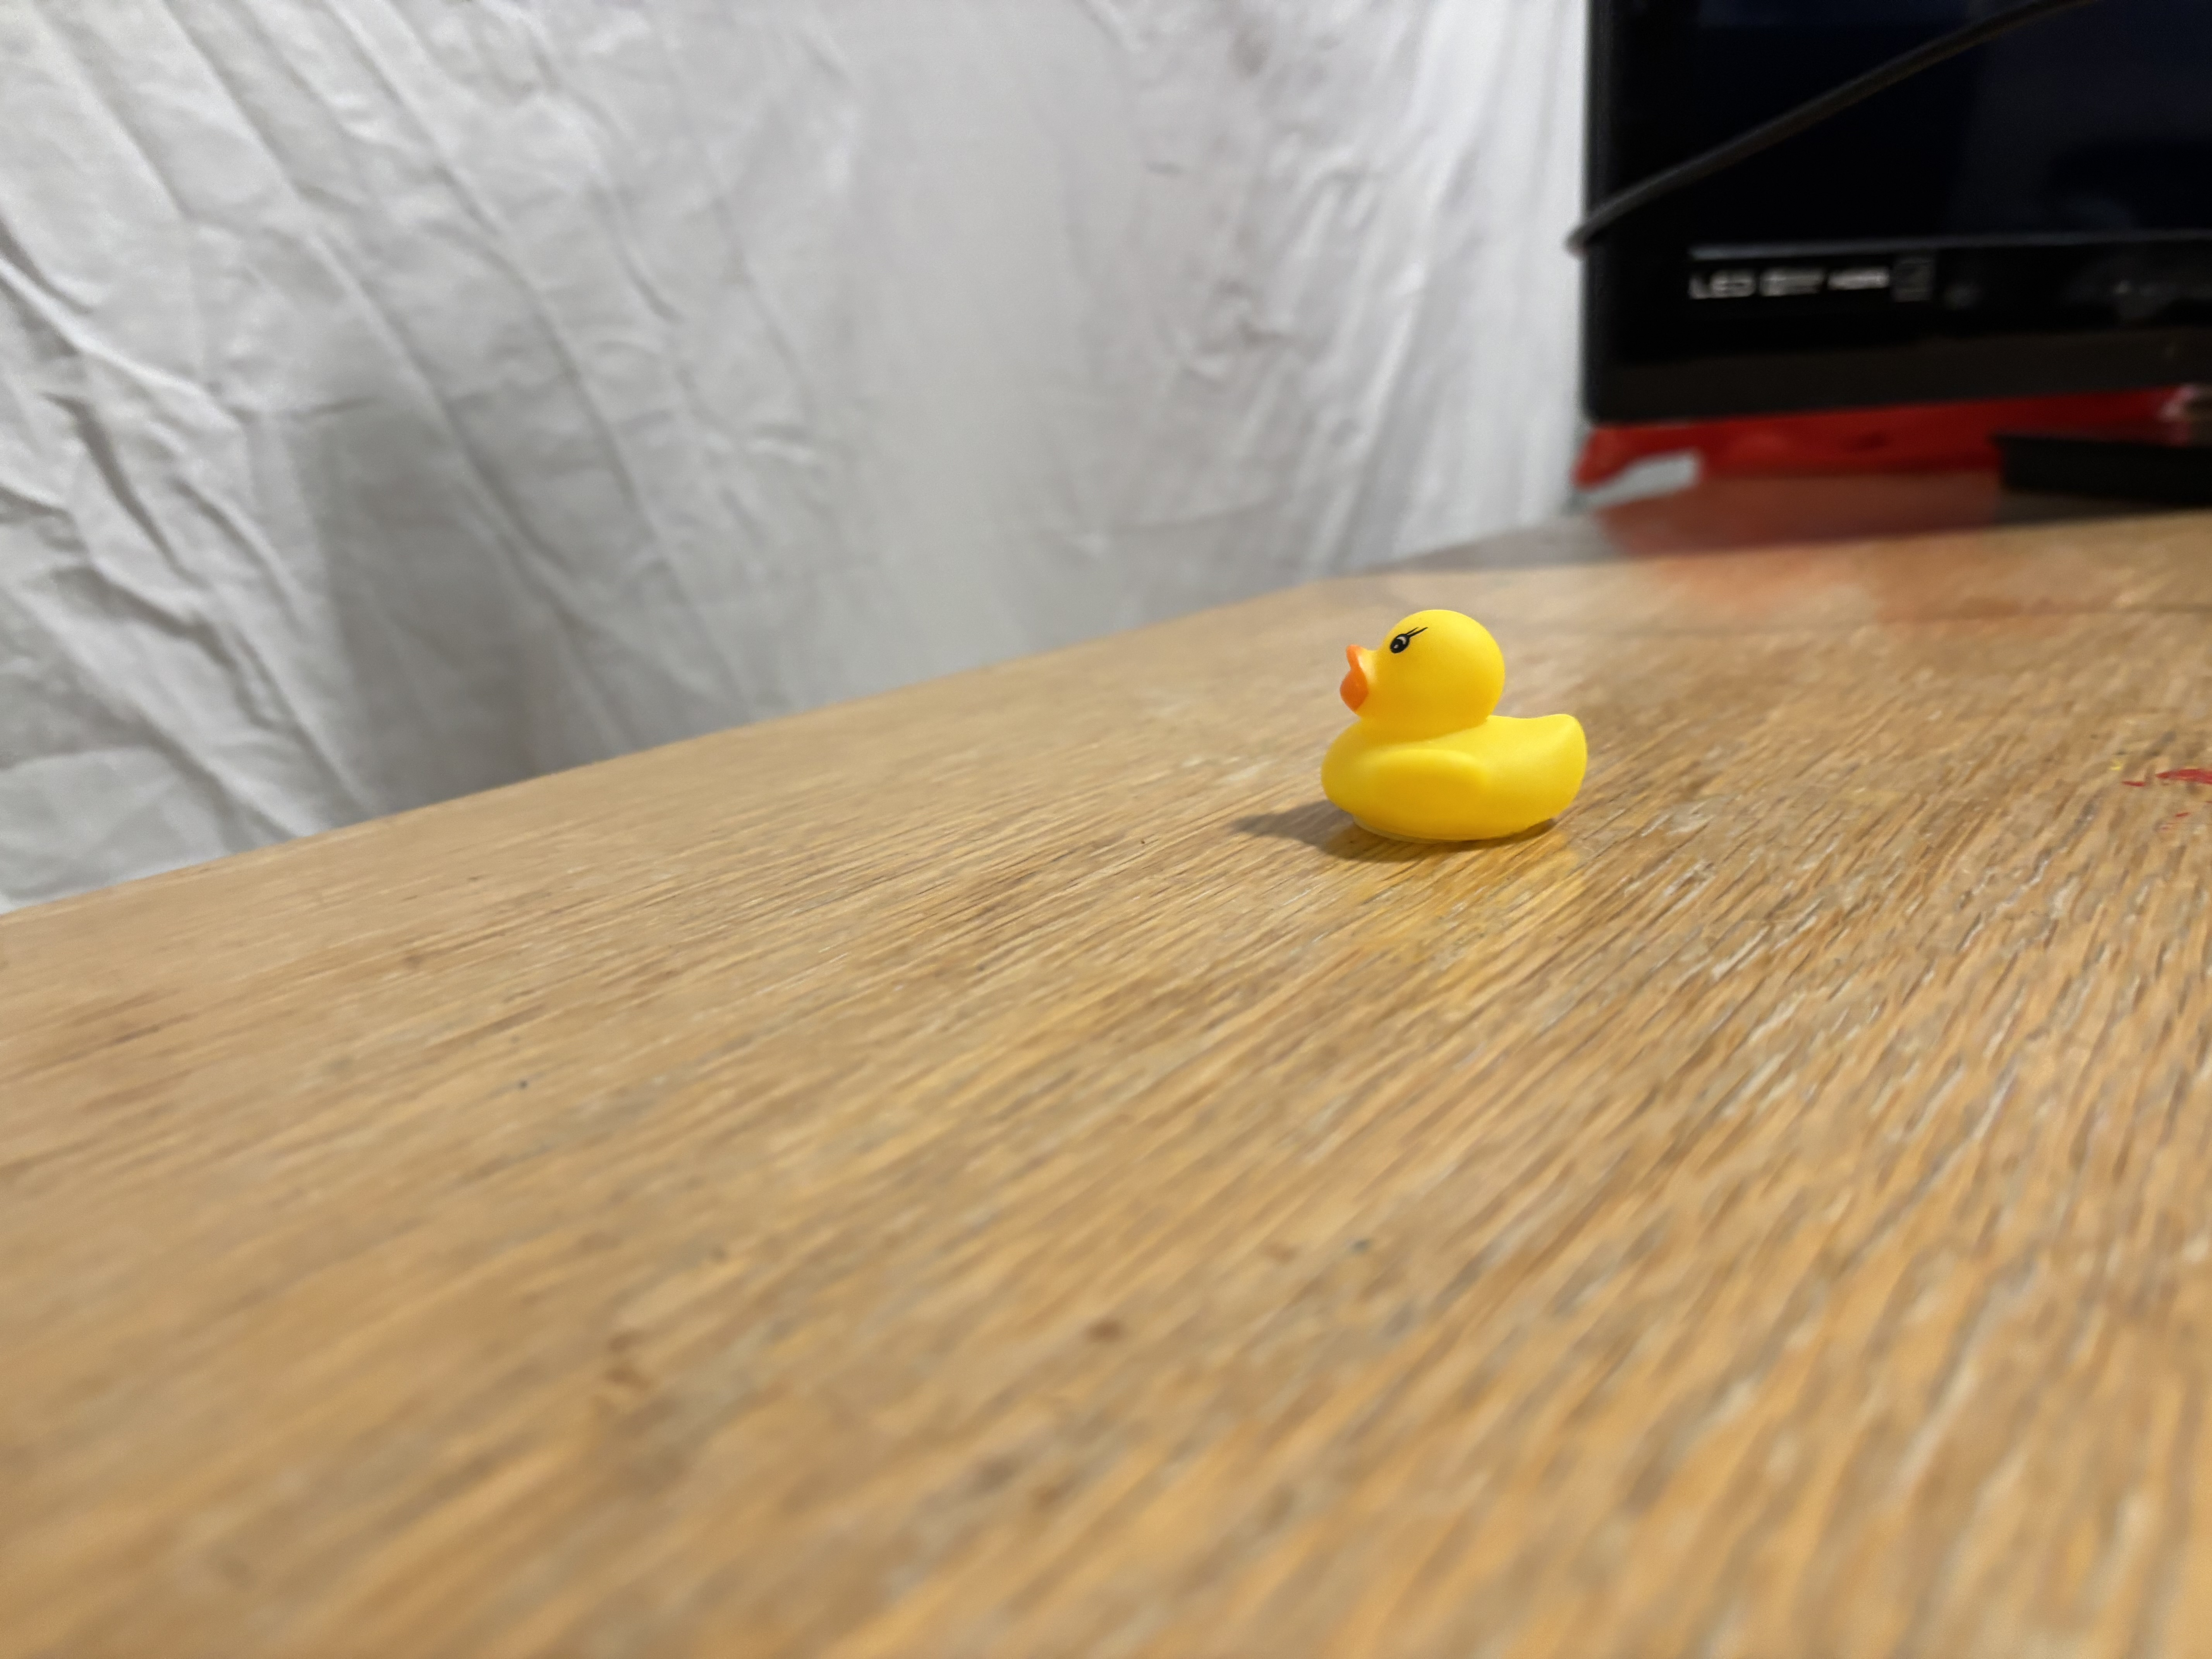duck_regular: (1294, 605, 1588, 852)
